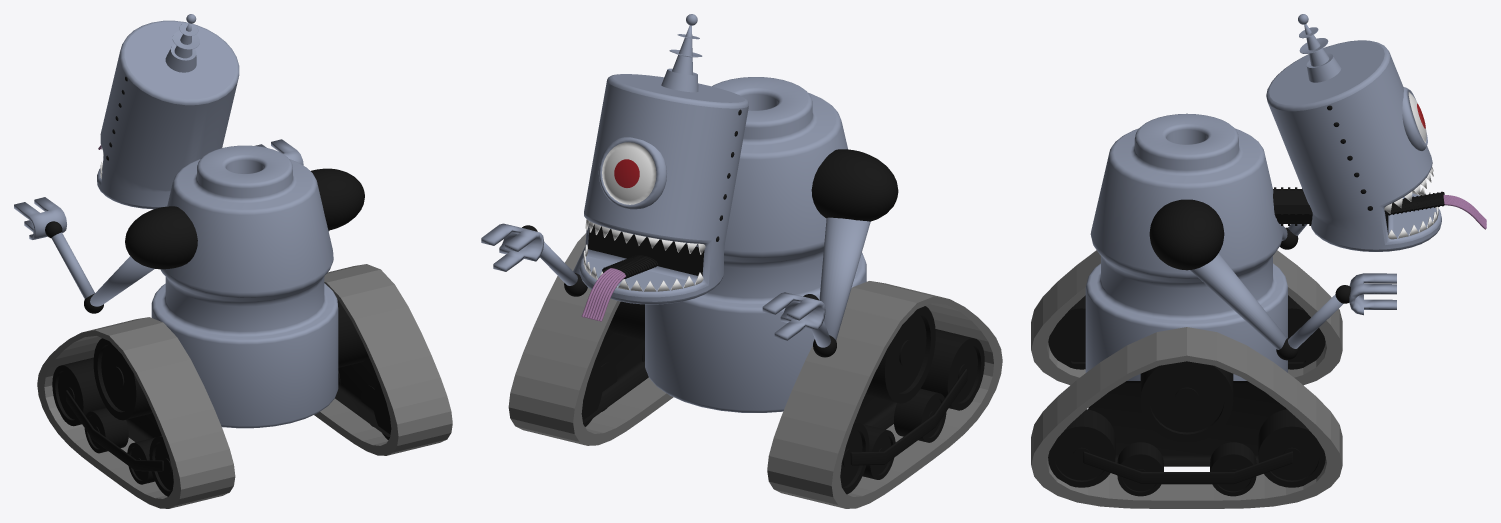
Rendered from Robot Base v2.fbx.
3 renders of one model, left to right at view 1: azimuth 30°, elevation 25°; view 2: azimuth 150°, elevation 25°; view 3: azimuth 270°, elevation 25°, orthographic. The views are drawn at different scales.
Parts seen in each view (by area): view 1: Body.003, Tread, Head.002, Shoulder.001, Tread_cog Large, Tread_cog, Tread_plate, Tread_cog small, Hand.003, Antenna, Tread_bar, Cylinder.003 (+1 smaller); view 2: Body.003, Tread, Head.002, Tread_cog, Tread_cog Large, Shoulder.001, Eye.004, Cylinder.003, Hand.003, Tread_plate, Tread_cog small, Tread_bar (+6 smaller); view 3: Body.003, Tread, Head.002, Tread_cog, Tread_plate, Tread_cog Large, Shoulder.001, Tread_cog small, Cylinder.003, Tread_bar, Hand.003, Antenna (+6 smaller).
Boxes of the visible parts, x1,y1,x2,y2 form: Body.003: [151, 145, 338, 428]; Tread: [37, 264, 452, 508]; Head.002: [97, 20, 239, 209]; Shoulder.001: [125, 168, 364, 269]; Tread_cog Large: [93, 299, 368, 420]; Tread_cog: [52, 357, 391, 496]; Tread_plate: [126, 356, 390, 442]; Tread_cog small: [84, 371, 374, 484]; Hand.003: [14, 139, 303, 239]; Antenna: [165, 23, 199, 72]; Tread_bar: [66, 390, 163, 471]; Cylinder.003: [90, 230, 329, 306]; Body.003: [645, 77, 866, 412]; Tread: [508, 233, 1002, 508]; Head.002: [579, 74, 748, 304]; Tread_cog: [581, 329, 984, 494]; Tread_cog Large: [609, 301, 935, 403]; Shoulder.001: [811, 149, 898, 221]; Eye.004: [598, 137, 666, 209]; Cylinder.003: [573, 217, 870, 340]; Hand.003: [481, 223, 825, 340]; Tread_plate: [582, 327, 896, 429]; Tread_cog small: [601, 344, 946, 479]; Tread_bar: [850, 369, 967, 465]; Body.003: [1085, 113, 1287, 380]; Tread: [1031, 250, 1342, 508]; Head.002: [1266, 40, 1441, 251]; Tread_cog: [1048, 295, 1325, 487]; Tread_plate: [1070, 360, 1305, 466]; Tread_cog Large: [1140, 361, 1233, 442]; Shoulder.001: [1149, 199, 1224, 270]; Tread_cog small: [1117, 442, 1256, 496]; Cylinder.003: [1190, 226, 1287, 349]; Tread_bar: [1083, 451, 1292, 484]; Hand.003: [1349, 273, 1396, 315]; Antenna: [1299, 24, 1341, 82].
Size of the model in its own units: 773 by 1061 by 1037.
